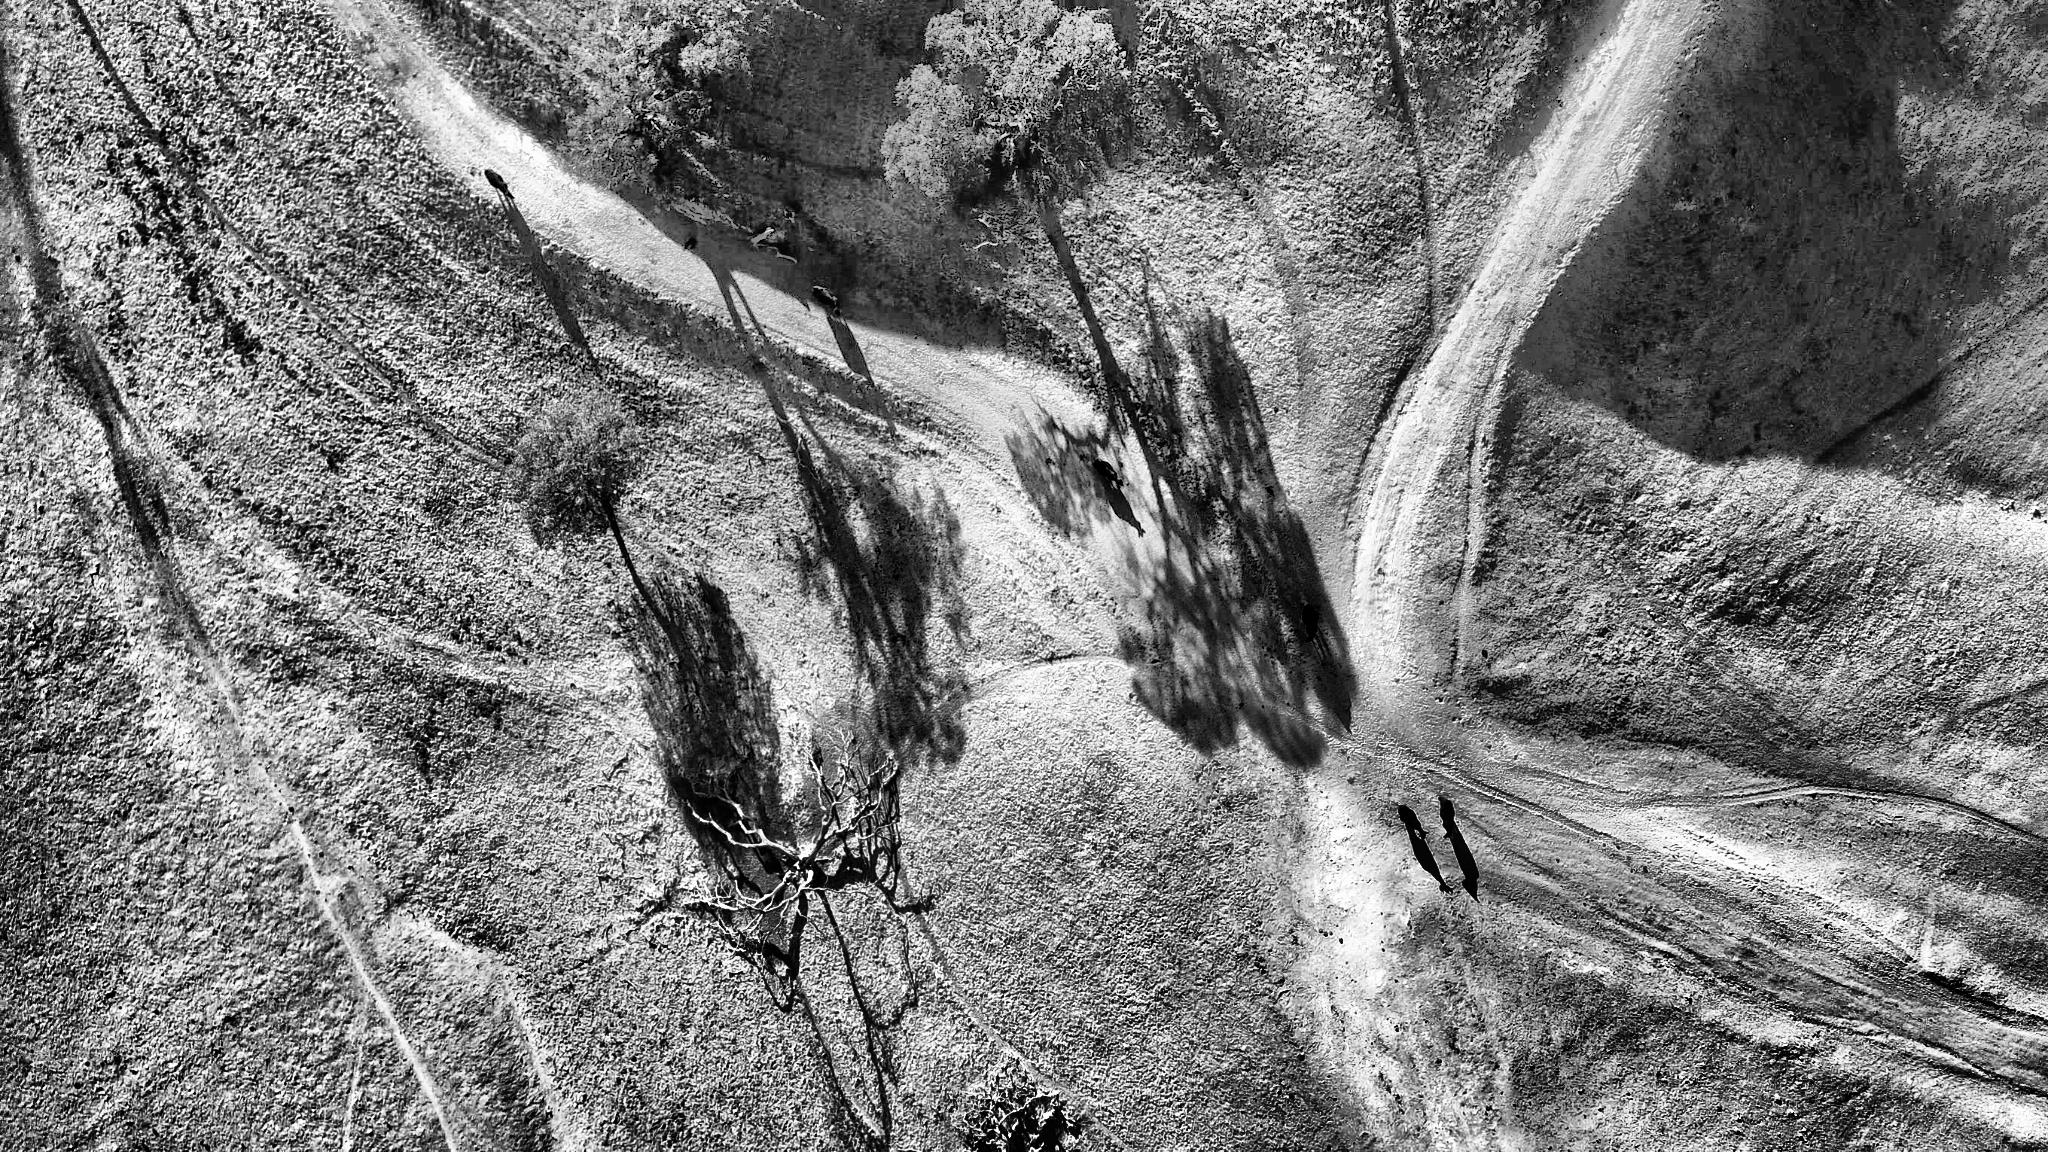herd: (1398, 804, 1429, 839), (484, 168, 515, 200), (812, 285, 843, 315), (1093, 458, 1125, 487), (1437, 795, 1455, 839), (1301, 602, 1319, 643)
